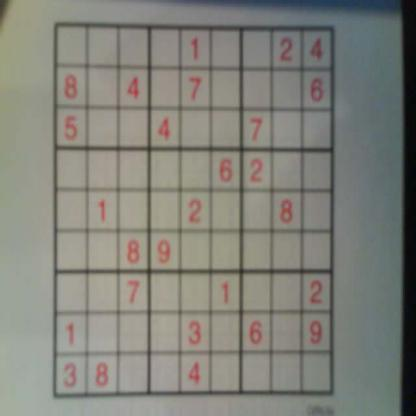sudoku: (51, 19, 338, 403)
